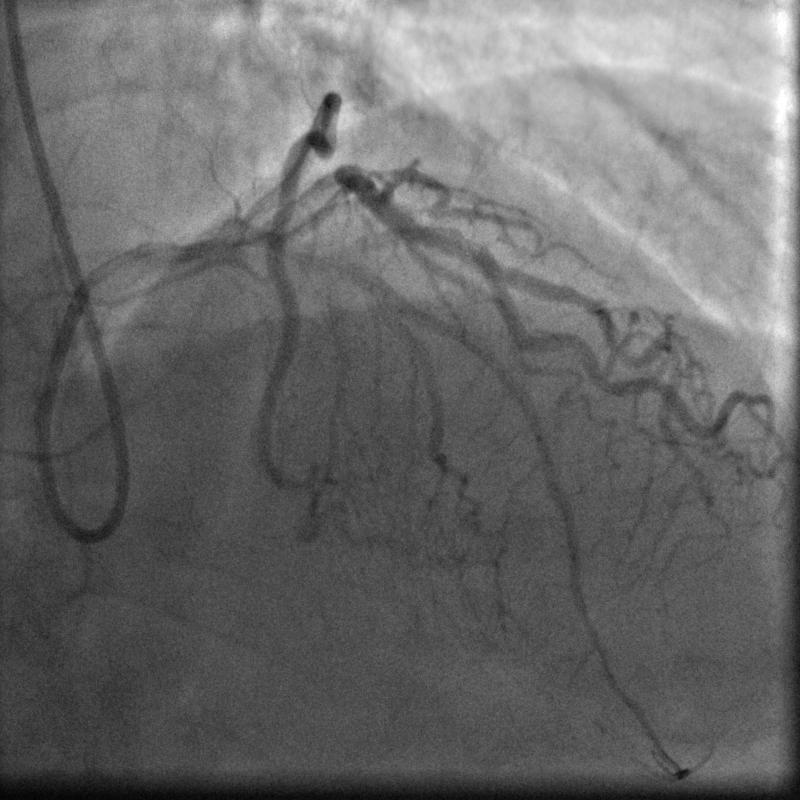Stenosis: (442, 221, 485, 263)
